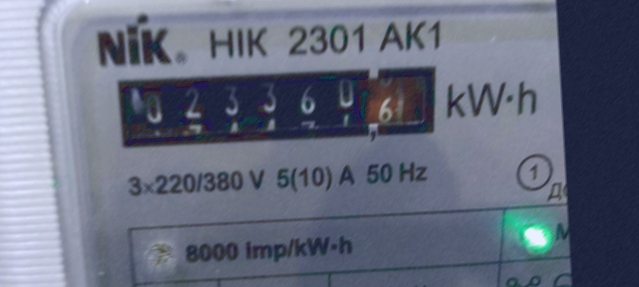0: (331, 73, 355, 109), (139, 87, 162, 123)
2: (178, 83, 201, 119)
3: (217, 81, 239, 117), (256, 78, 276, 113)
6: (293, 79, 315, 114), (372, 90, 392, 124)
screen: (100, 48, 456, 166)
